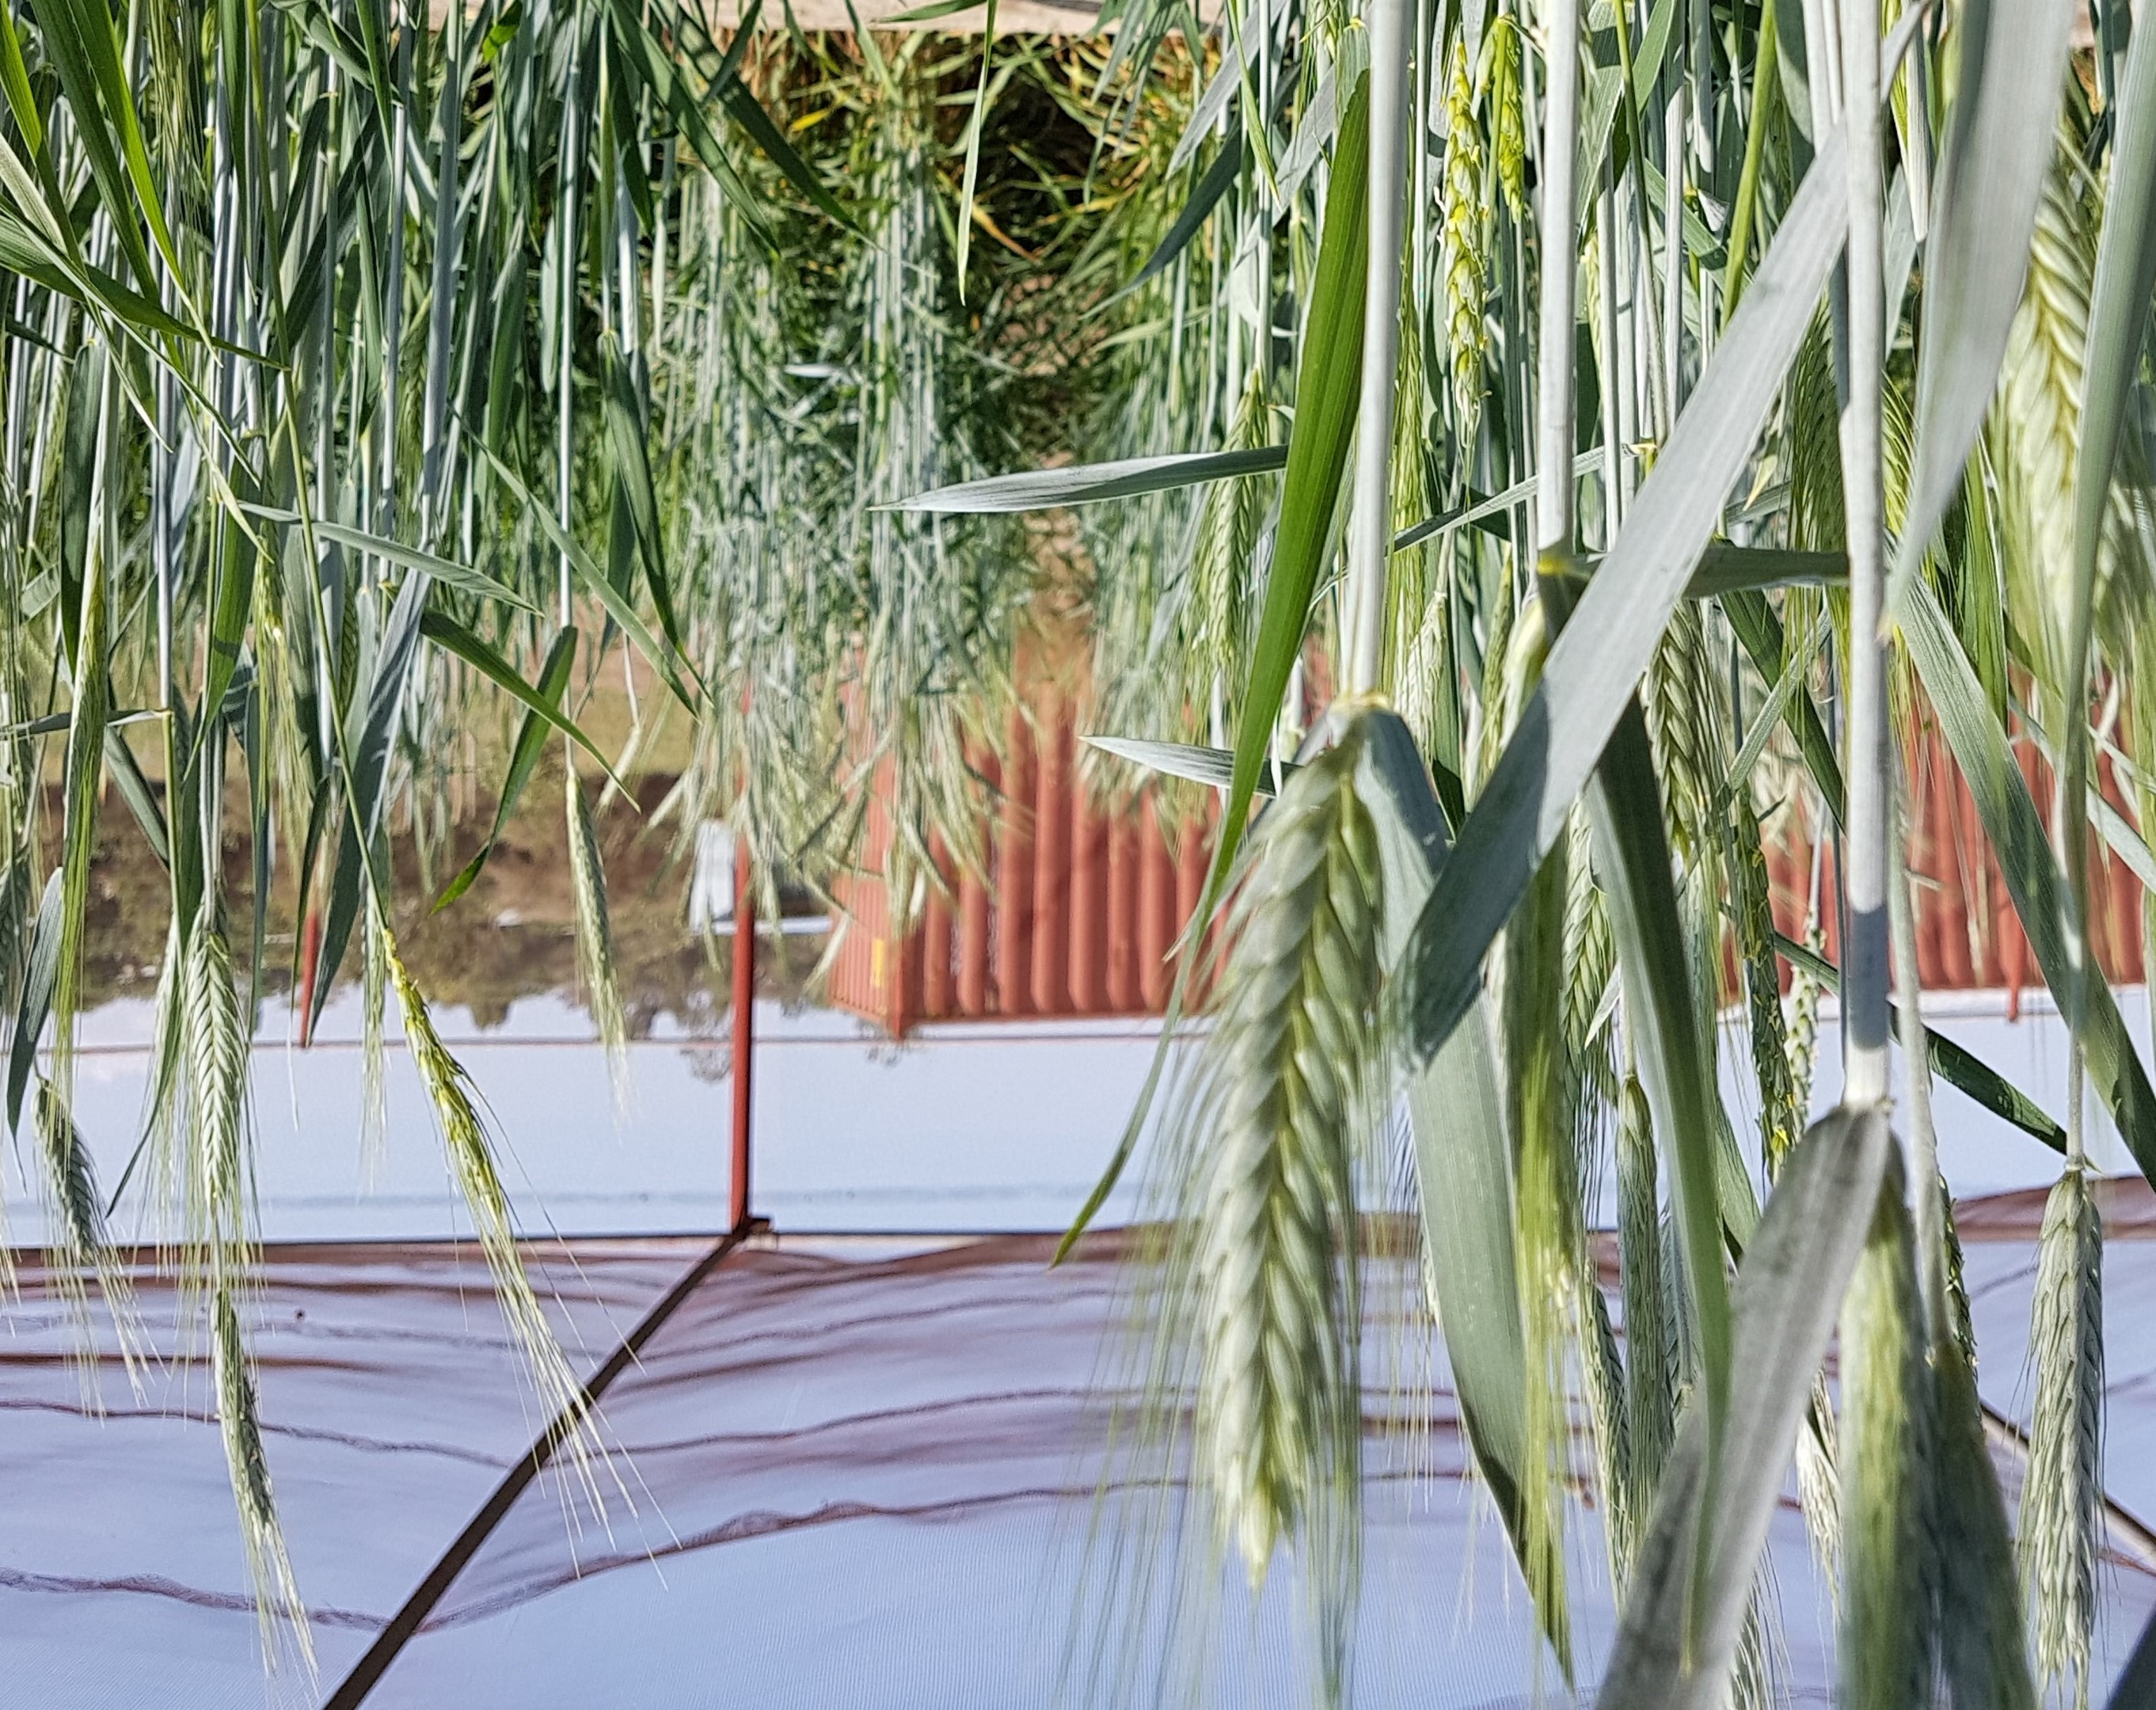Healthy Wheat: (2020, 1160, 2152, 1657), (168, 924, 303, 1220)
